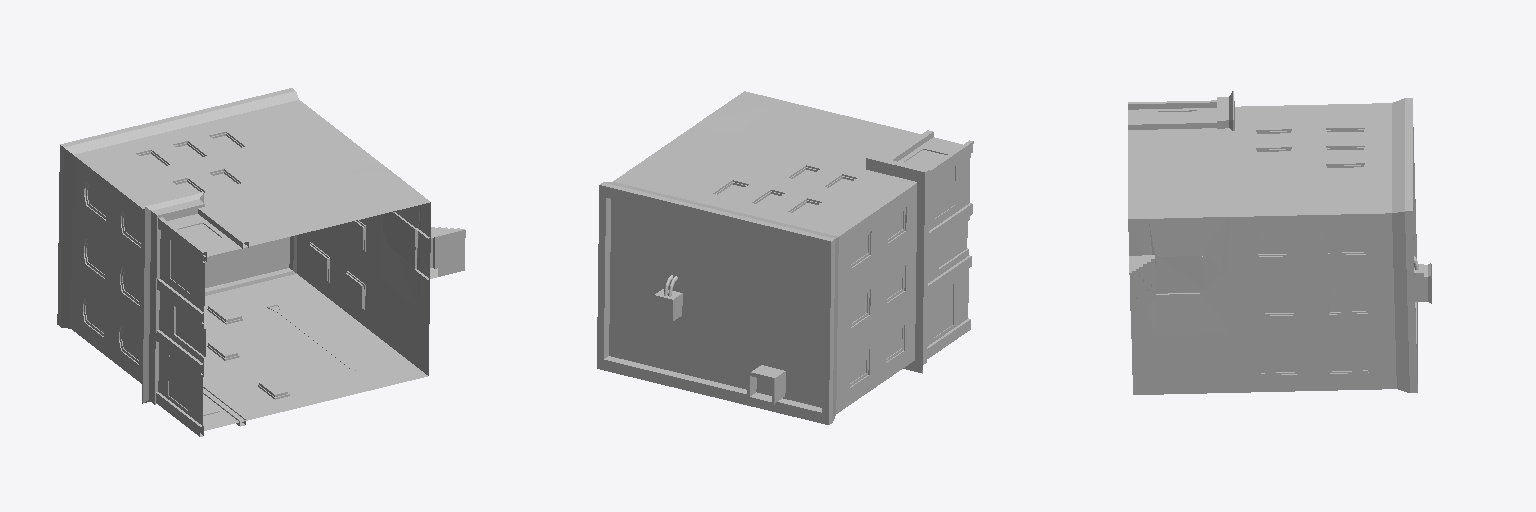
File: building_game.obj
3 views of the same model, side by side, from view 1: azimuth 30°, elevation 25°; view 2: azimuth 150°, elevation 25°; view 3: azimuth 270°, elevation 25° (orthographic).
Visible parts, largest first — view 1: Cube.001, Cube.002; view 2: Cube.001, Cube.002; view 3: Cube.001, Cube.002.
Boxes of the visible parts, <box> form: Cube.001: <box>57,88,465,436</box>; Cube.002: <box>86,136,362,414</box>; Cube.001: <box>597,91,973,424</box>; Cube.002: <box>718,150,954,382</box>; Cube.001: <box>1128,91,1431,394</box>; Cube.002: <box>1158,111,1367,372</box>.
Bounding box in the file's own units: 2.07 × 1.47 × 2.04.